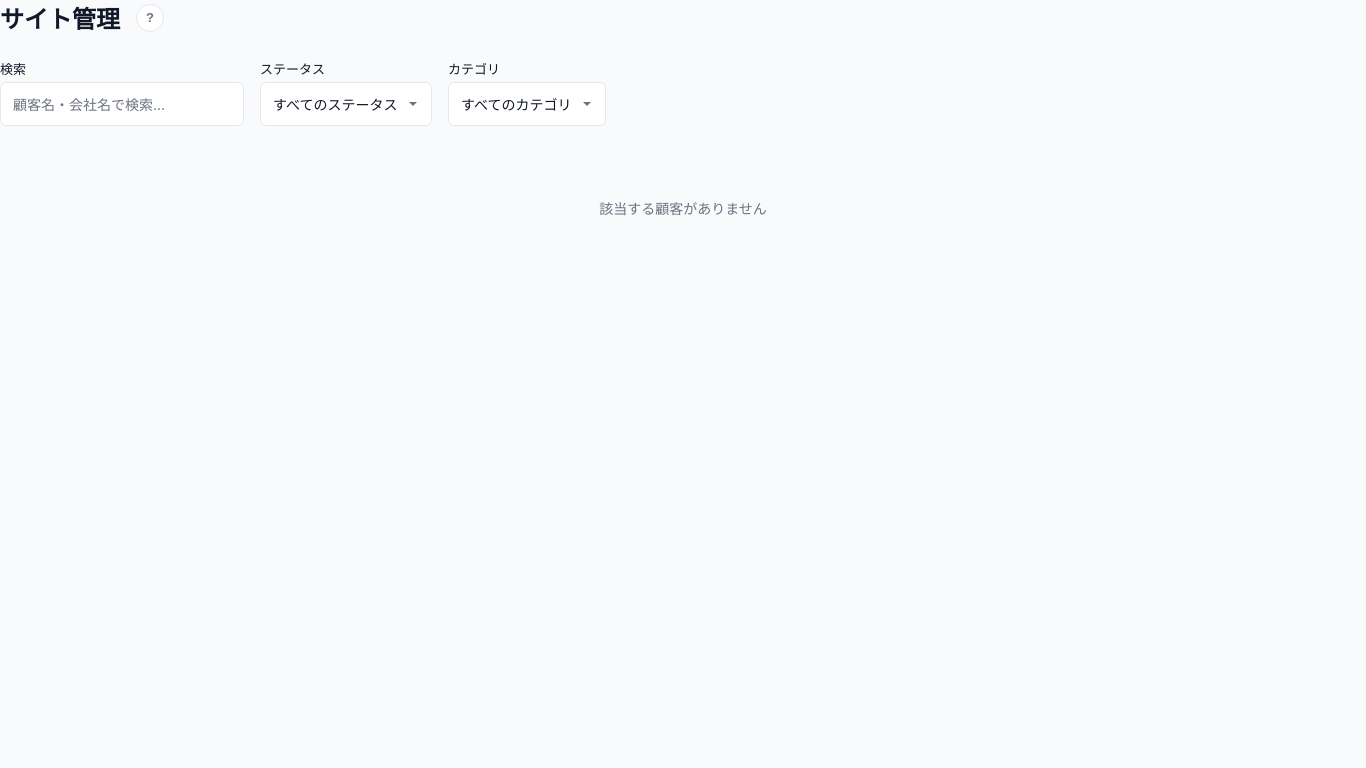
Test: SiteManagement - ヘルプモーダル › should open help modal with site management content when help button is clicked
Check: the heading "サイト管理 ?" is shown, box [0,0,164,35]
Click the button named "ヘルプを表示": (150, 18) [136,4,164,32]
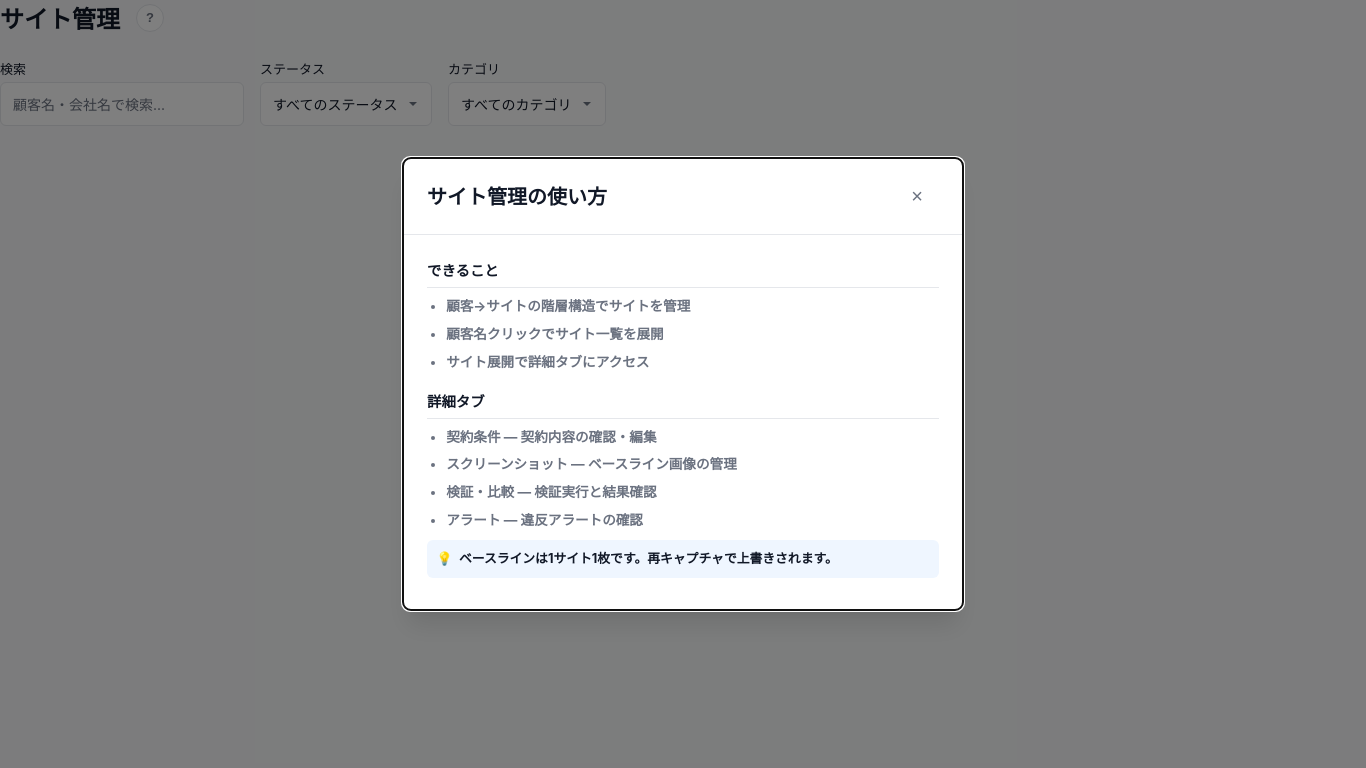
Check: the heading "サイト管理の使い方" is shown, box [427,181,607,210]
Check: the list item "顧客→サイトの階層構造でサイトを管理" is shown, box [446,298,690,314]
Check: the heading "できること" is shown, box [427,259,939,288]
